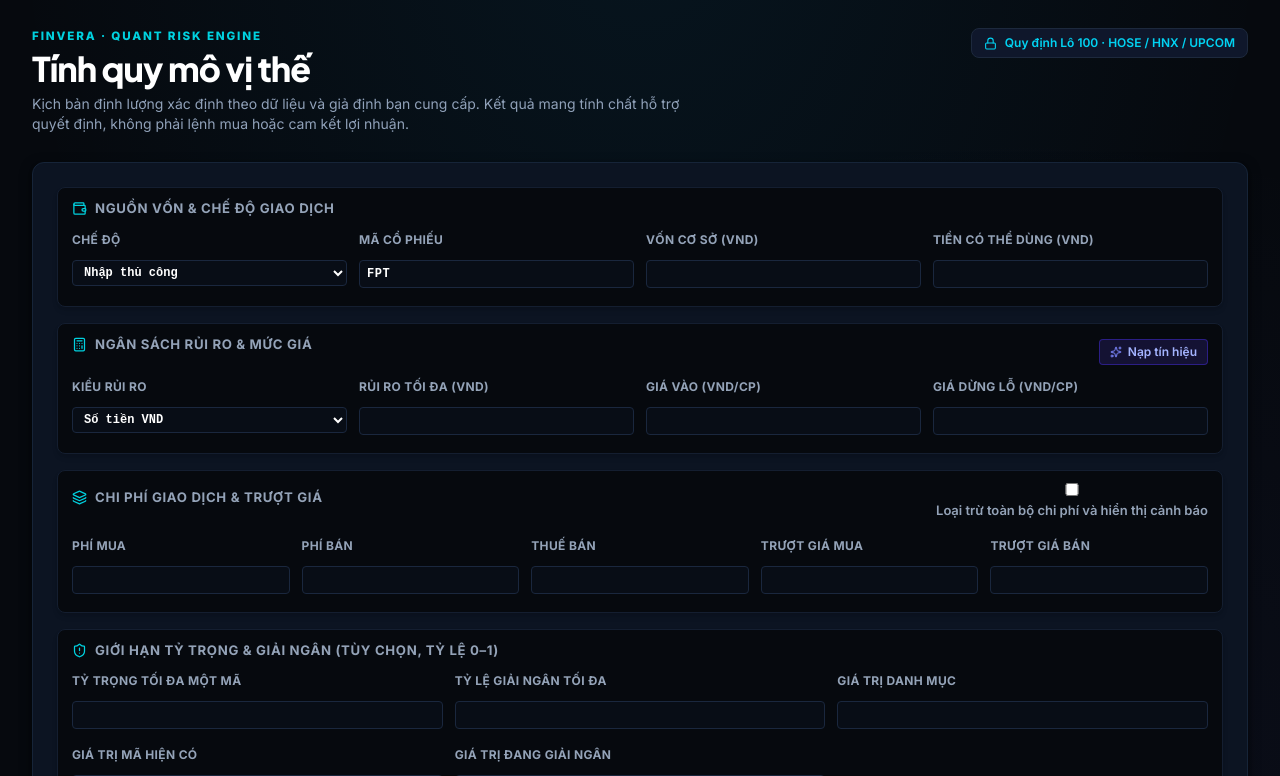
Scenario: PositionSizingPage › shows the binding constraint and non-colour status
Type "100000000" into the field labelled "Vốn cơ sở (VND)" at (784, 274), box [646,260,921,288]
Type "100000000" into the field labelled "Tiền có thể dùng (VND)" at (1070, 274), box [933,260,1208,288]
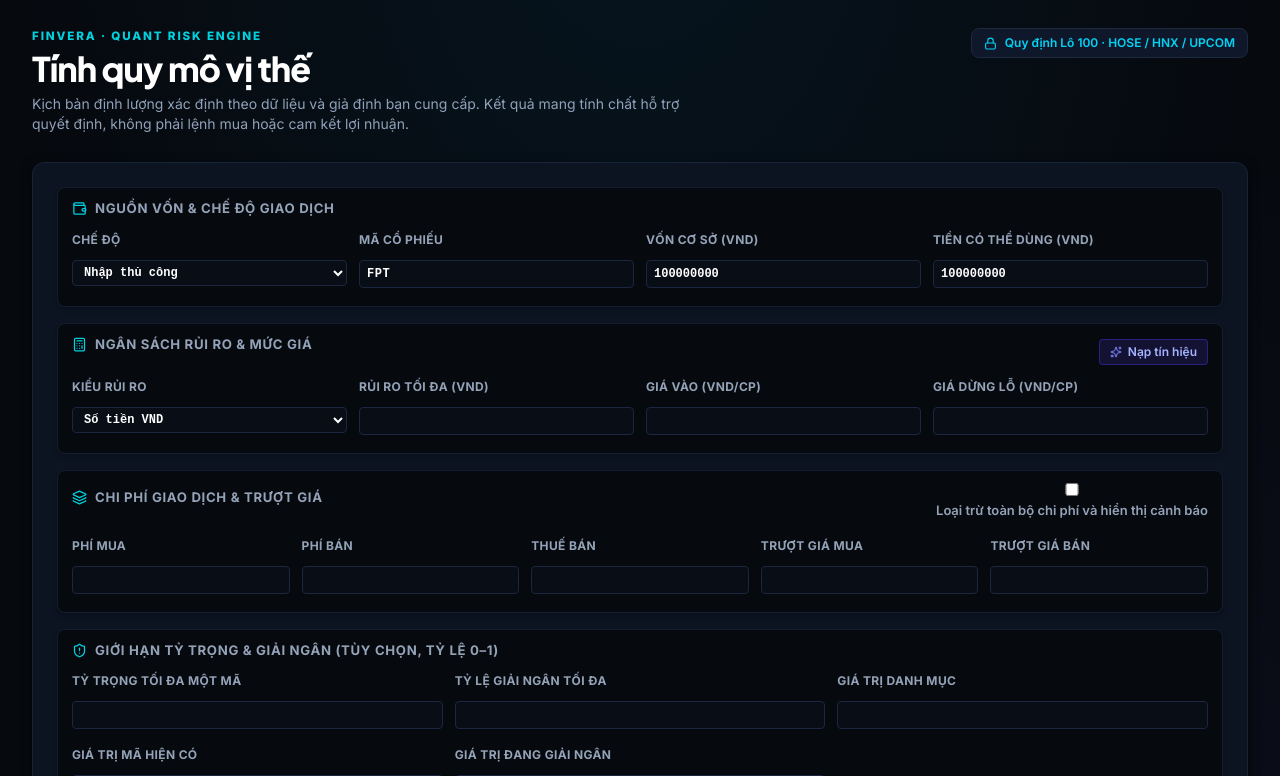
Type "5000000" into the field labelled "Rủi ro tối đa (VND)" at (496, 421), box [359,407,634,435]
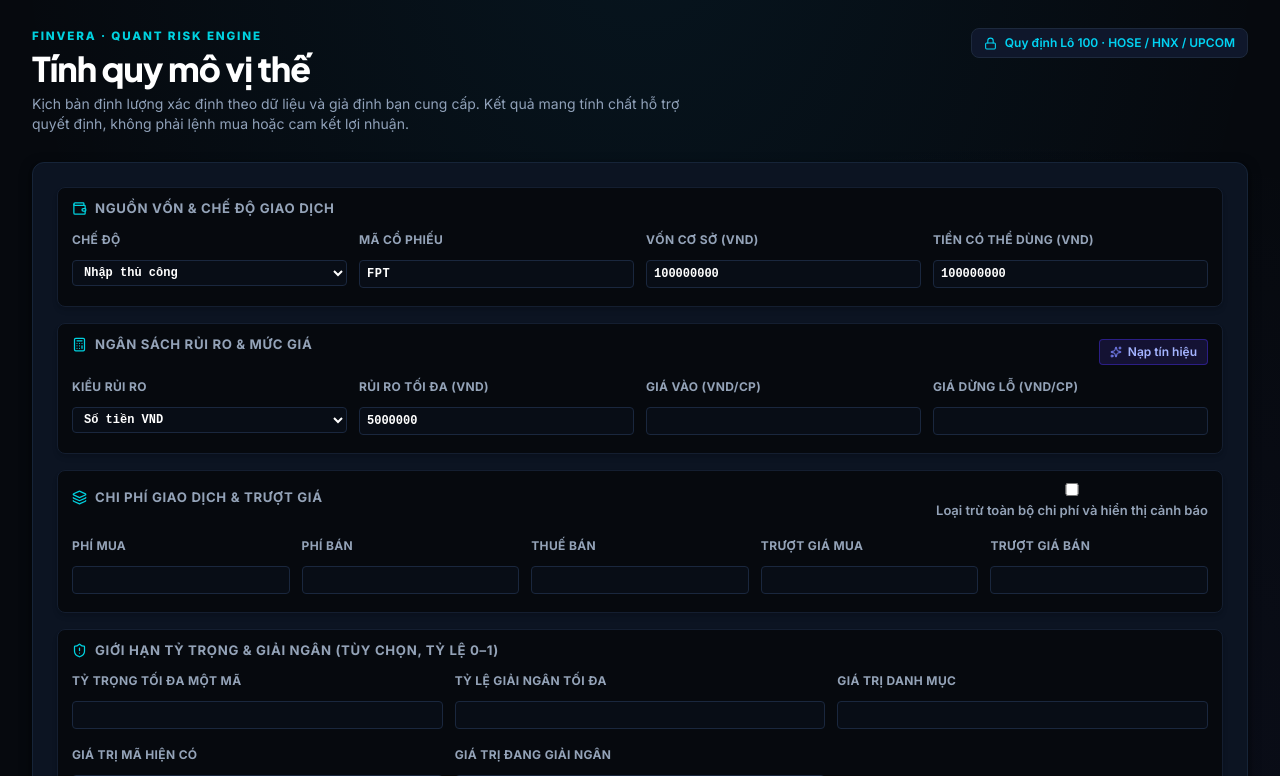
Type "50000" into the field labelled "Giá vào (VND/cp)" at (784, 421), box [646,407,921,435]
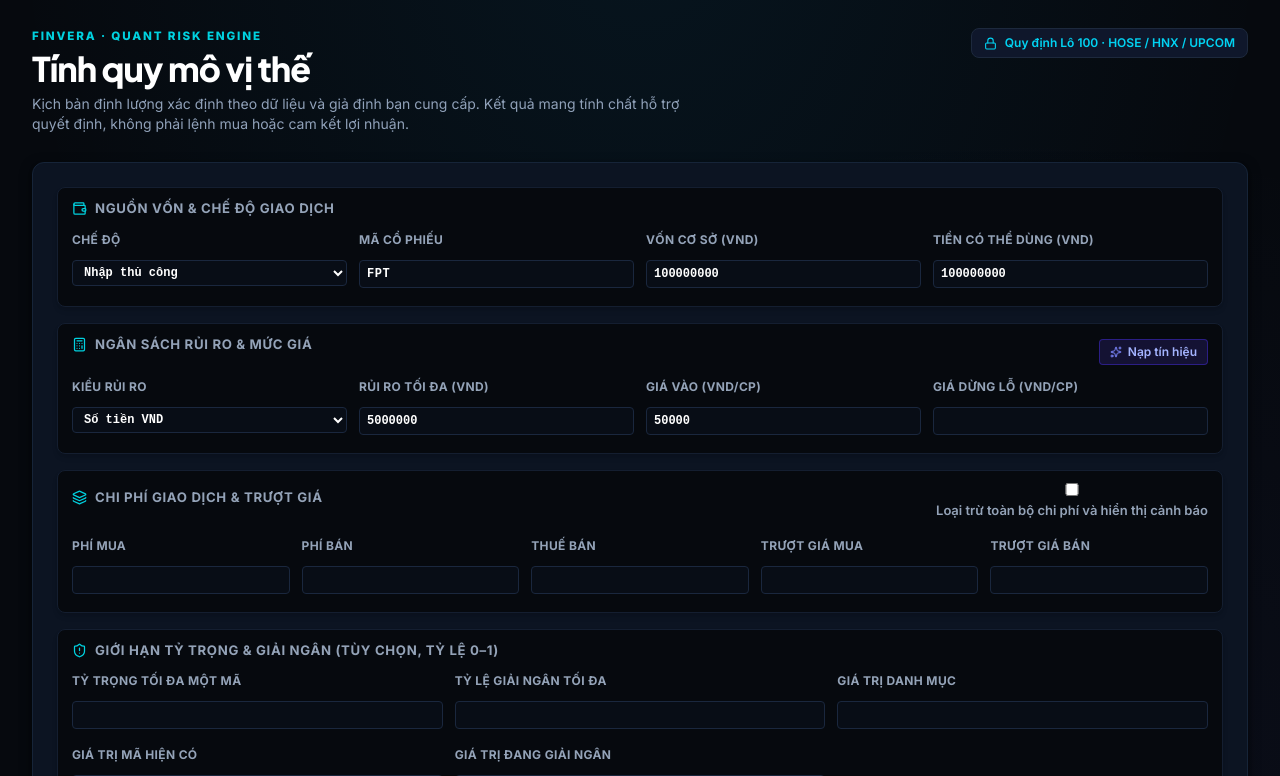
Type "47000" into the field labelled "Giá dừng lỗ (VND/cp)" at (1070, 421), box [933,407,1208,435]
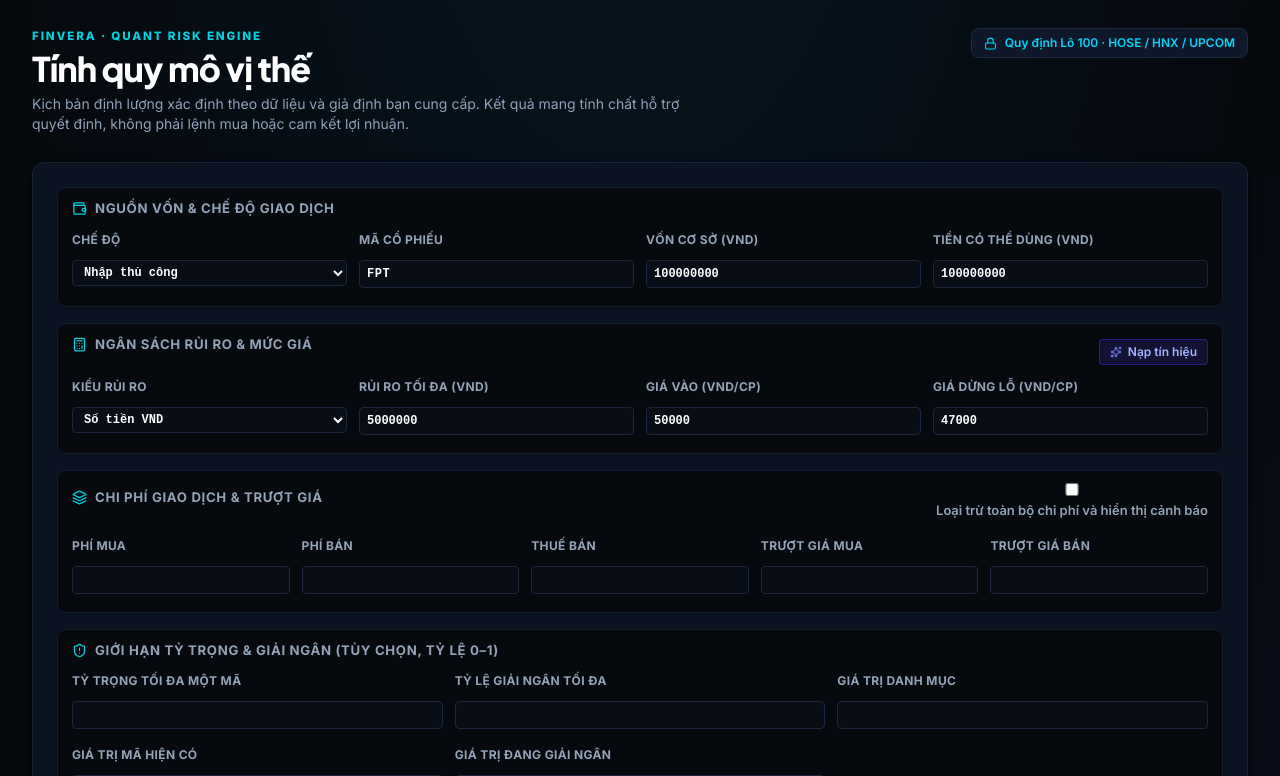
Click the checkbox labelled "Loại trừ toàn bộ chi phí và hiển thị cảnh báo" at (1072, 490), box [936,483,1208,496]
(page scrolled)
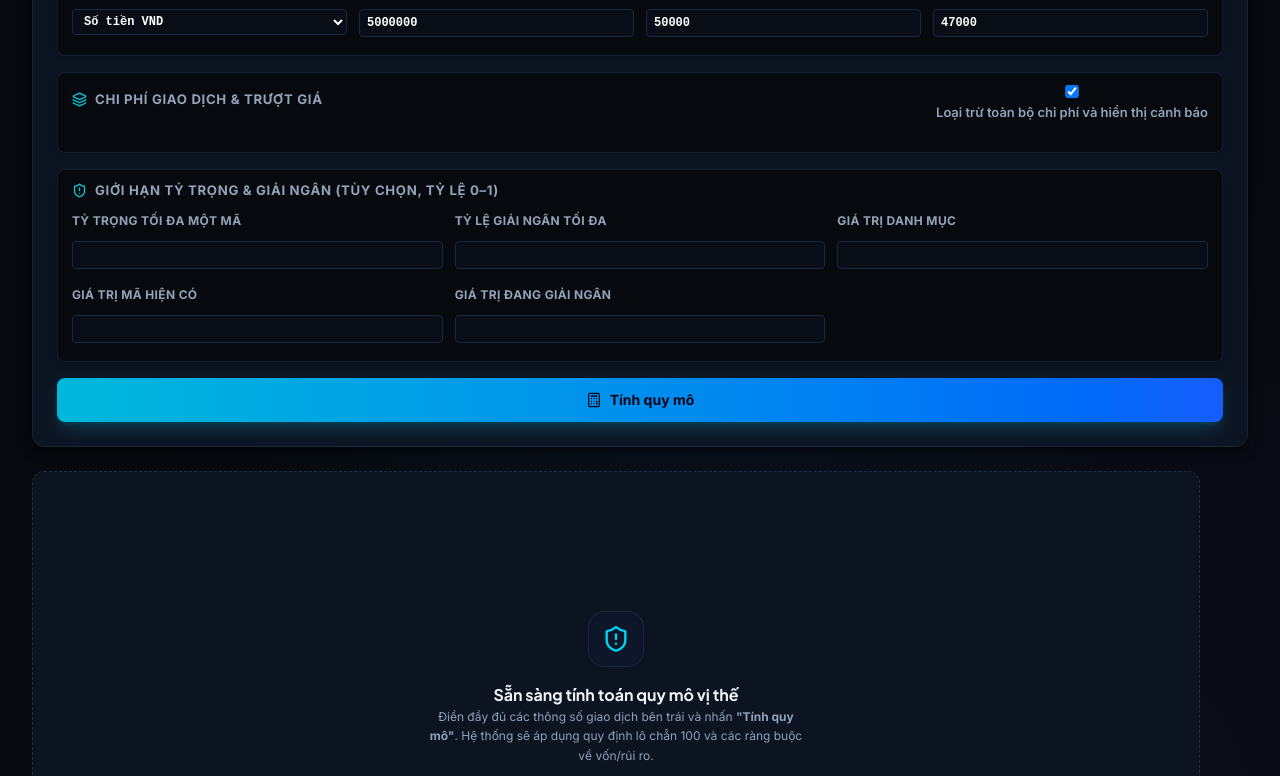
Click the button "Tính quy mô" at (640, 400), box [57,378,1223,422]
(page scrolled)
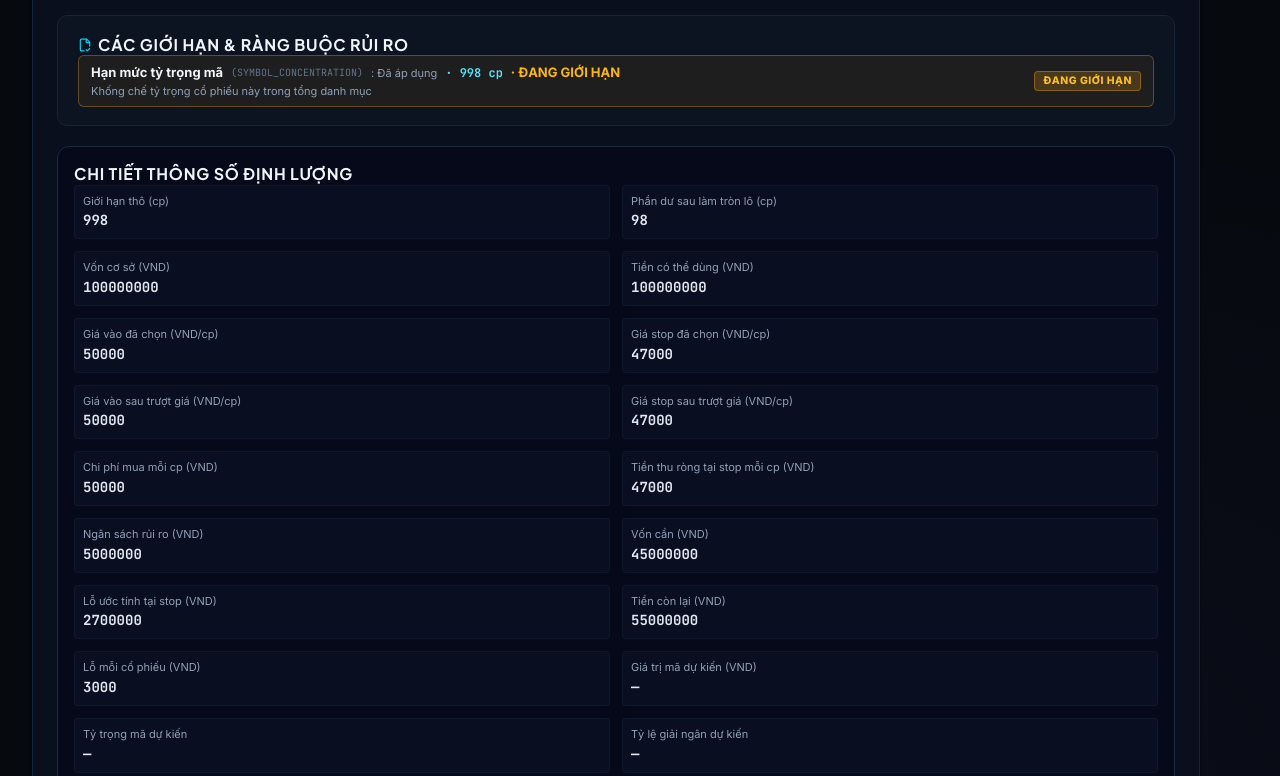
Check: the list item "SYMBOL_CONCENTRATION" shows "ĐANG GIỚI HẠN", box [1043,74,1132,87]
Check: the text "Giá vào sau trượt giá (VND/cp)" is shown, box [83,394,241,408]
